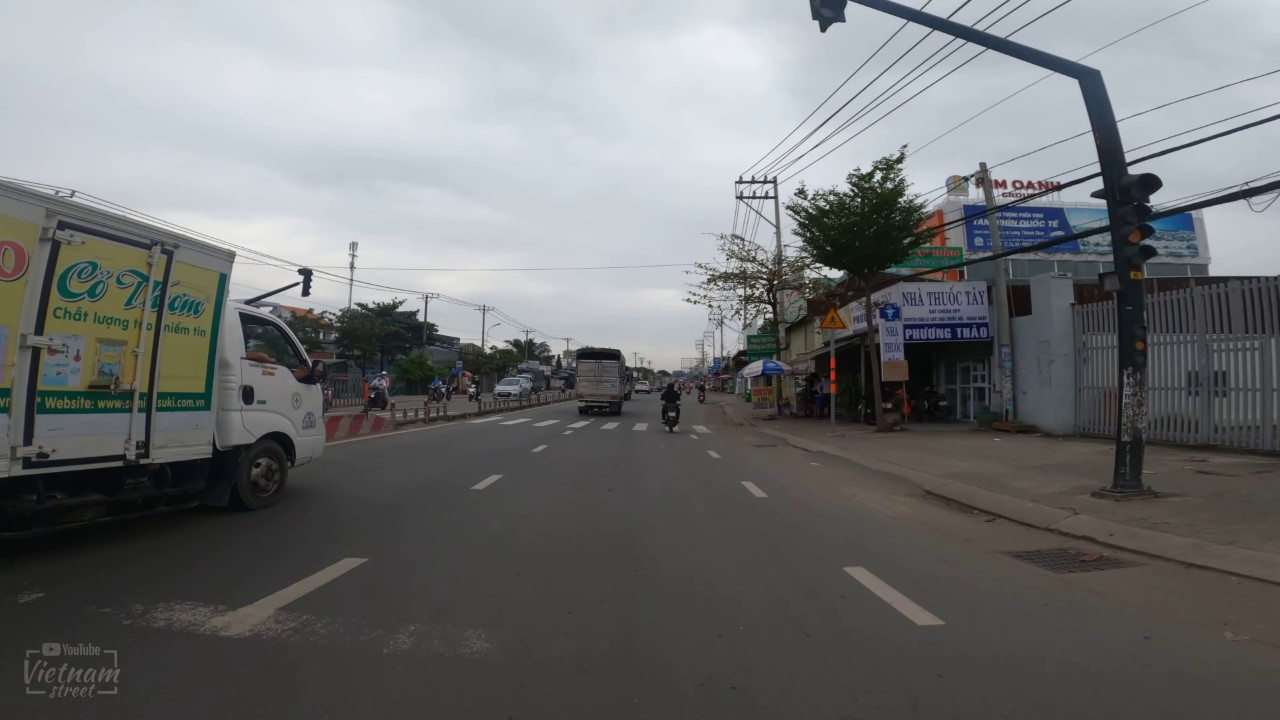can_than_nguoi_qua_duong: (817, 306, 849, 331)
